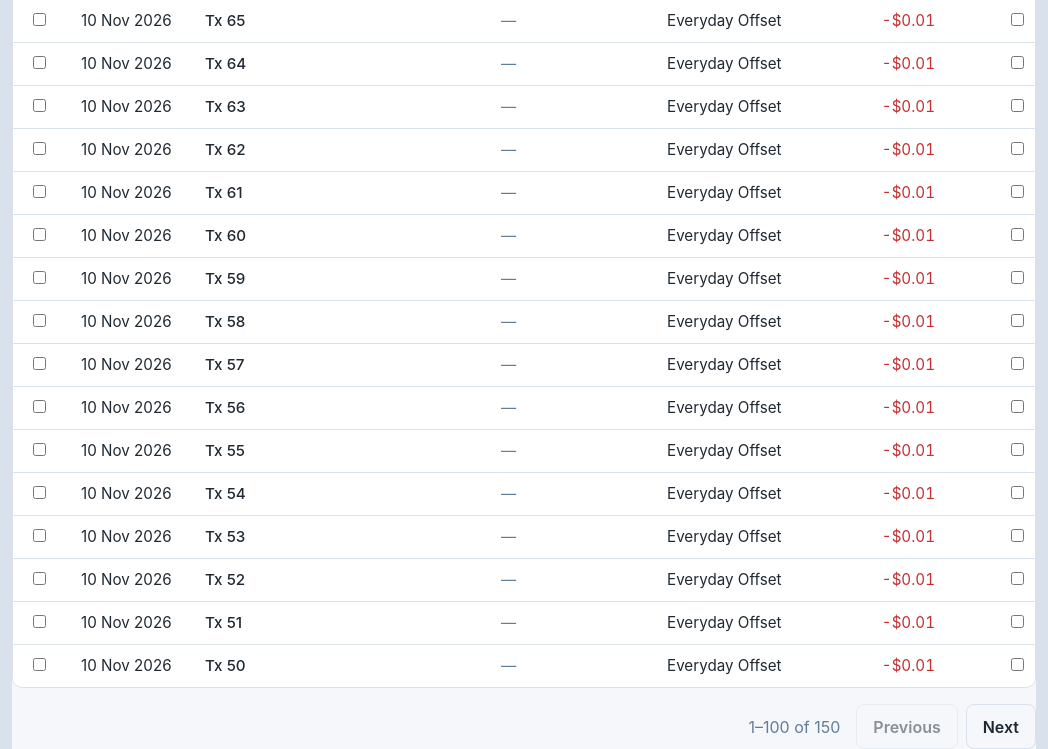
Test: TransactionsPage › pages through results 100 at a time
(page scrolled)
Expected: the text "1–100 of 150" is shown, top-left (748, 715), bottom-right (840, 739)
Expected: the button "Previous" is disabled, top-left (856, 704), bottom-right (958, 748)
Step 1. Click the button "Next" → (1001, 727), box top-left (966, 704), bottom-right (1036, 748)
(page scrolled)
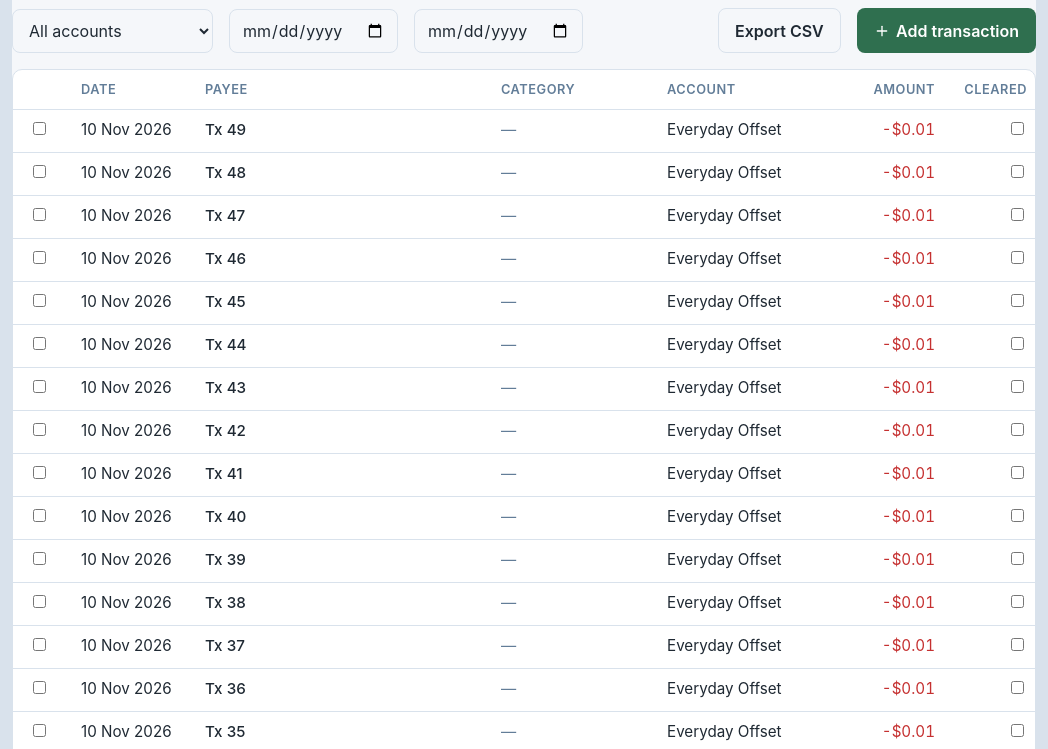
// Changing a filter returns to page 1.
Step 2. Select "Everyday Offset" in the dropdown labelled "Account" → (112, 31), box top-left (12, 9), bottom-right (213, 53)
(page scrolled)
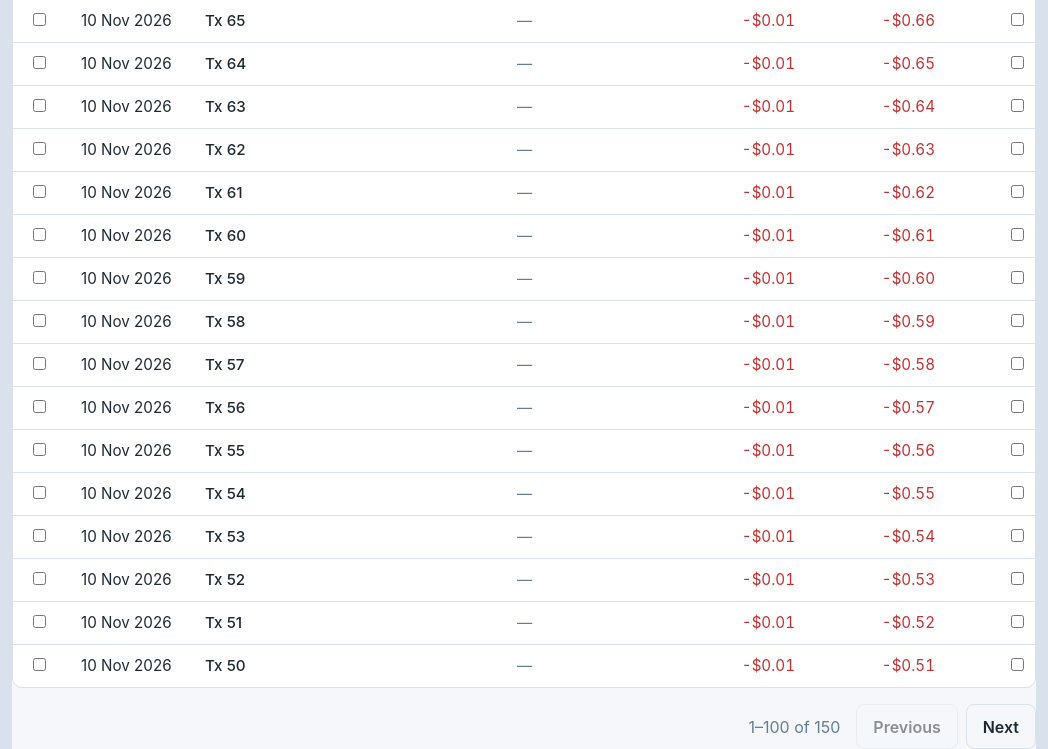
Now the text "1–100 of 150" is shown, box top-left (748, 715), bottom-right (840, 739)
